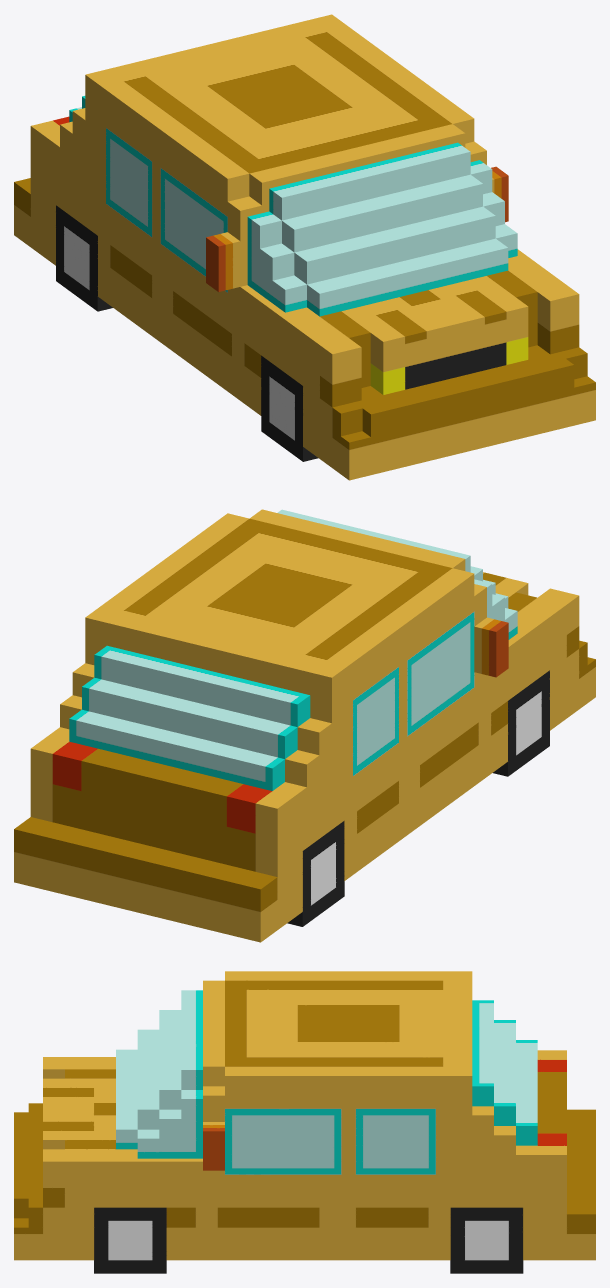
File: Character_7.fbx
3 views of the same model, one above another, from view 1: azimuth 30°, elevation 25°; view 2: azimuth 150°, elevation 25°; view 3: azimuth 270°, elevation 25° (orthographic). The views are drawn at different scales.
Visible parts, largest first — view 1: Character_7; view 2: Character_7; view 3: Character_7.
Boxes of the visible parts, x1,y1,x2,y2 form: Character_7: (14,14,595,480); Character_7: (14,509,595,942); Character_7: (14,971,595,1273).
Bounding box in the file's own units: 40 × 30 × 80.
